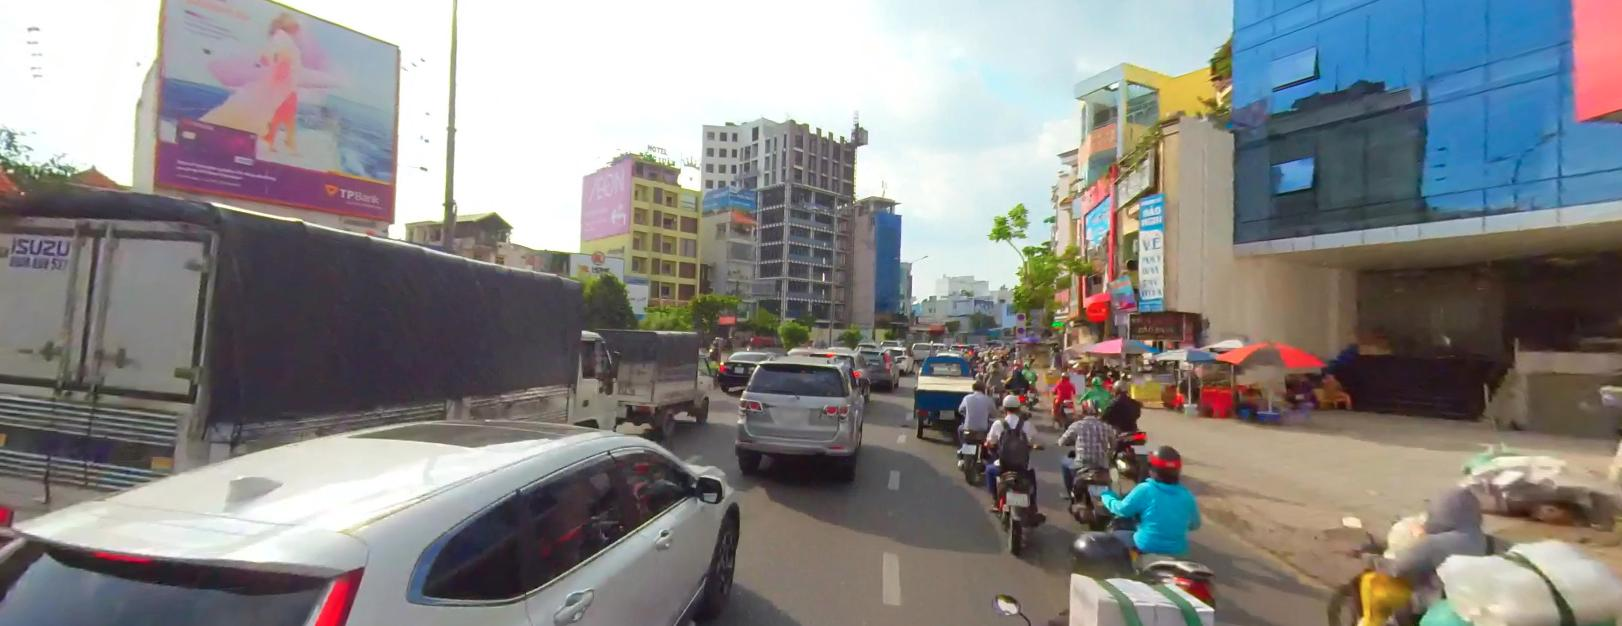Cam dung va do: (1017, 325, 1024, 332), (1017, 312, 1024, 319)
